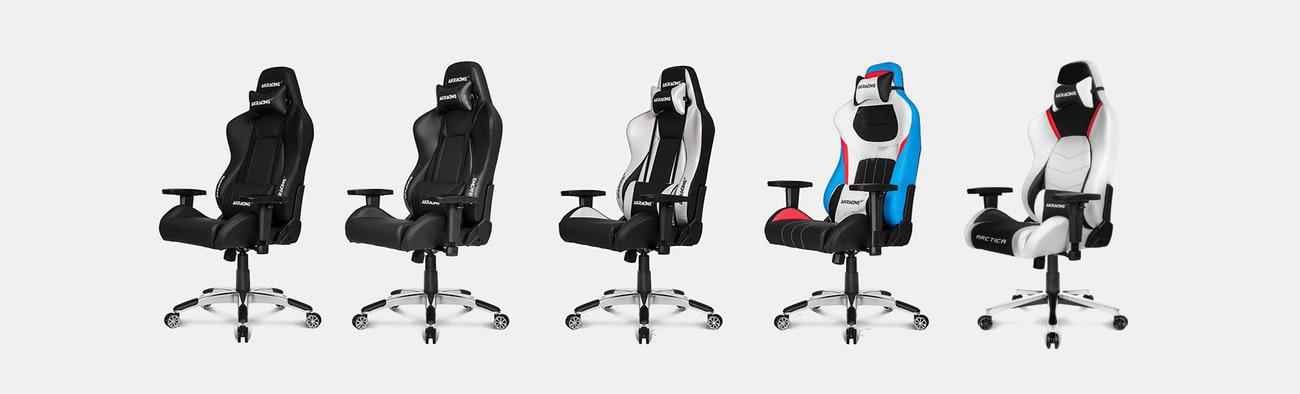chair: (955, 52, 1171, 350), (144, 57, 342, 344), (741, 62, 942, 338), (539, 65, 741, 337), (345, 68, 529, 337)
